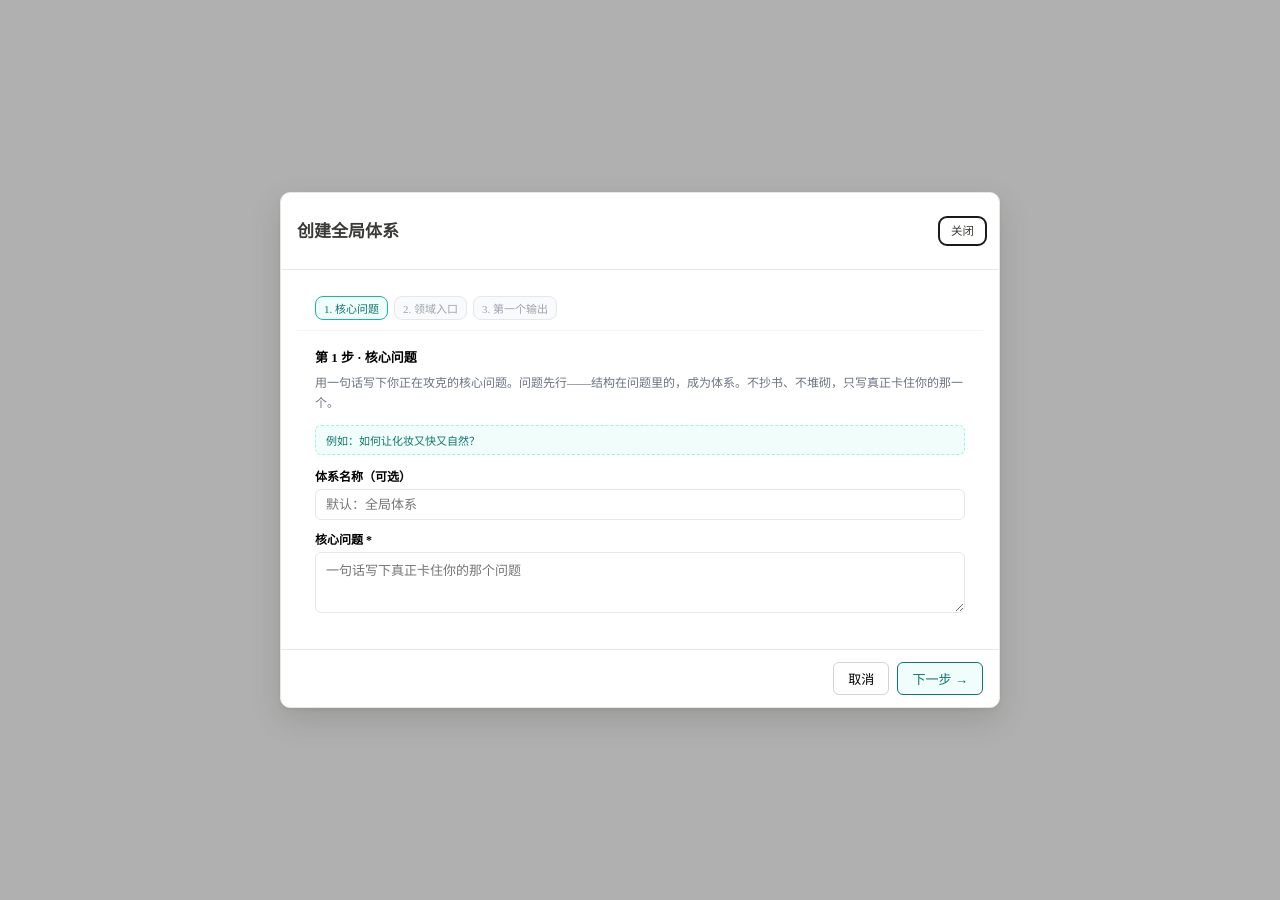
Test: KnowledgeSystemWizard 三步校验 › 核心问题必填：空核心问题点下一步 → 红色提示并停留在第 1 步
The image size is (1280, 900).
Expected: the dialog with test id "knowledge-wizard" is shown, [280, 192, 1000, 708]
Type "全局体系" into the field with test id "wizard-name".
click(640, 504); type("全局体系")  # box [315, 489, 965, 520]
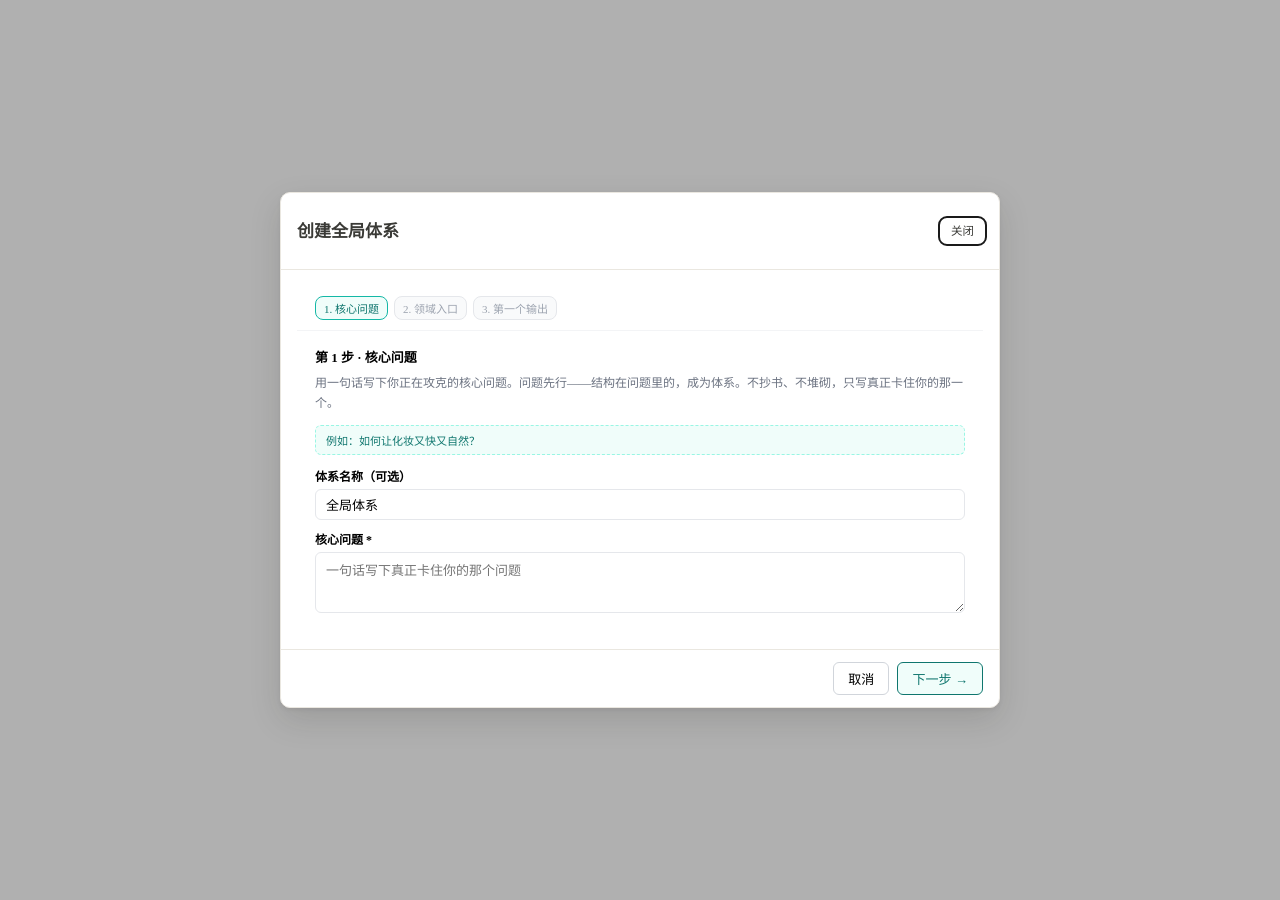
Click the button with test id "wizard-next".
click(940, 678)  # box [897, 662, 983, 695]
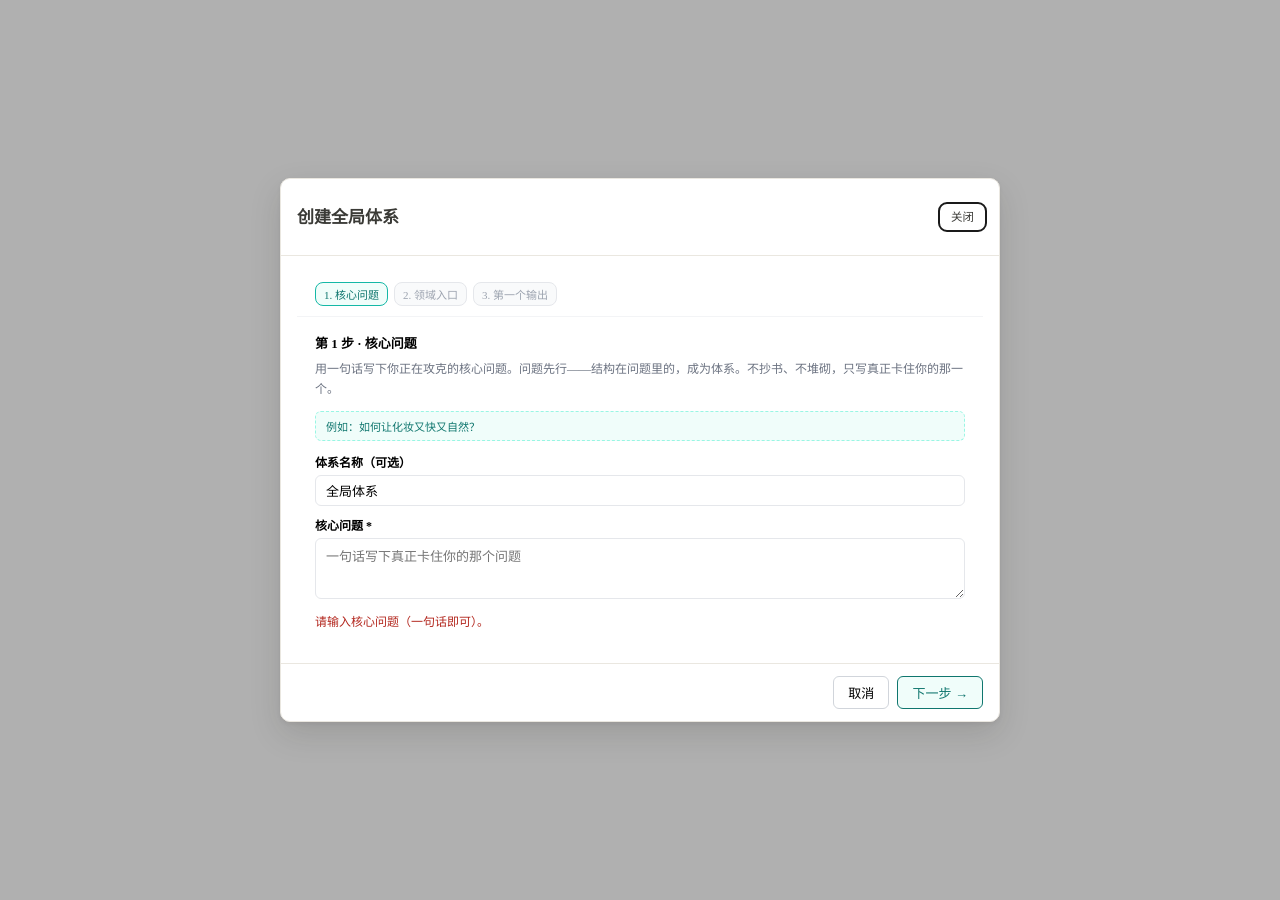
Now the message with test id "wizard-error" shows "请输入核心问题", box [315, 614, 489, 629]
